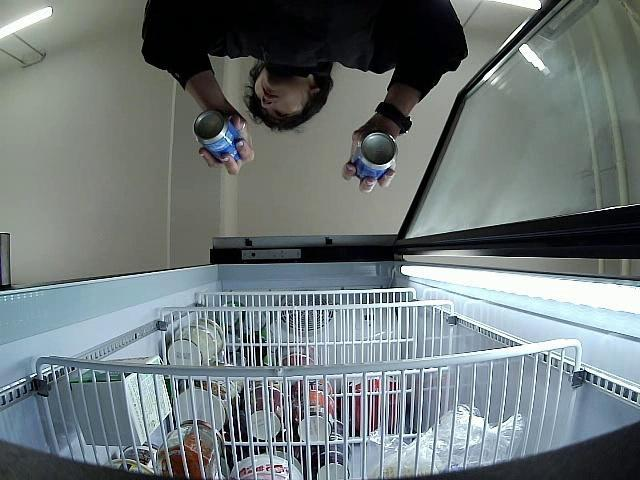15_letsbe: (193, 111, 242, 162), (352, 128, 397, 181)
